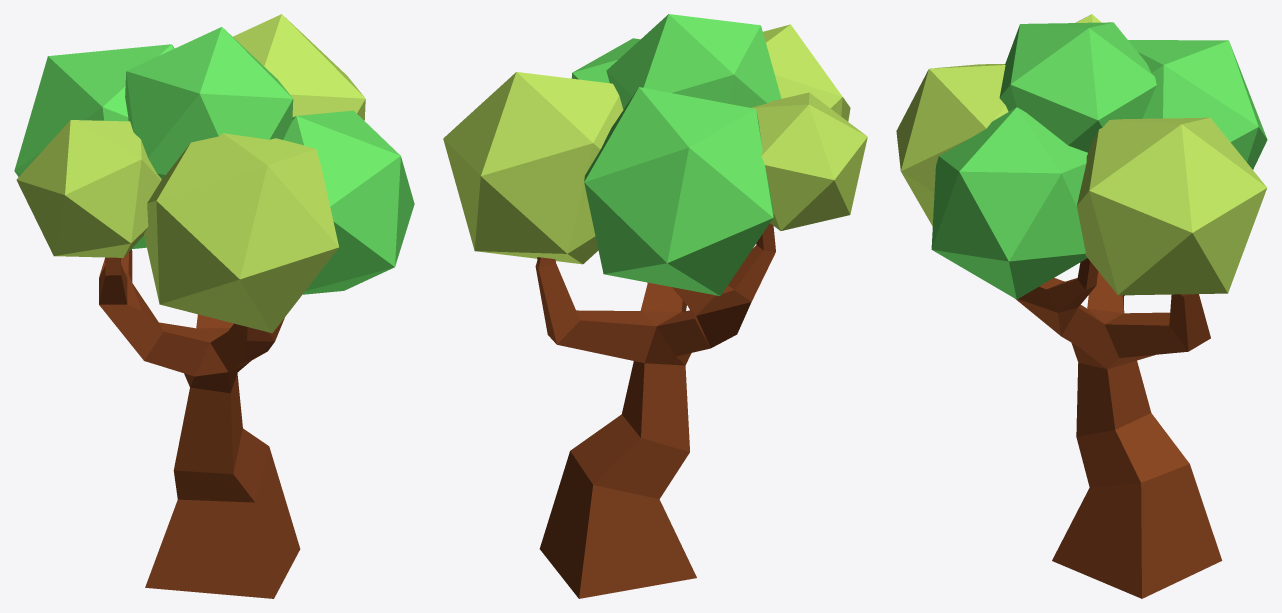
Rendered from TreeStylized_ExtraLowPoly.fbx.
3 views of the same model, side by side, from view 1: azimuth 30°, elevation 25°; view 2: azimuth 150°, elevation 25°; view 3: azimuth 270°, elevation 25° (orthographic). The views are drawn at different scales.
Parts seen in each view (by area): view 1: TreeBase1.003, Icosphere, Icosphere.005, Icosphere.001, Icosphere.004, Icosphere.002, Icosphere.003; view 2: TreeBase1.003, Icosphere.002, Icosphere.003, Icosphere.005, Icosphere.001, Icosphere, Icosphere.004; view 3: TreeBase1.003, Icosphere.003, Icosphere.004, Icosphere.005, Icosphere.002, Icosphere.
Part boxes in pixels (x1,y1,x2,y2): TreeBase1.003: (99,249,300,598); Icosphere: (144,133,338,333); Icosphere.005: (125,27,293,178); Icosphere.001: (16,120,161,257); Icosphere.004: (283,110,414,294); Icosphere.002: (14,44,174,249); Icosphere.003: (233,14,365,120); TreeBase1.003: (535,223,775,598); Icosphere.002: (584,87,774,296); Icosphere.003: (443,72,623,264); Icosphere.005: (606,14,781,109); Icosphere.001: (751,92,867,230); Icosphere: (763,24,850,121); Icosphere.004: (571,38,640,83); TreeBase1.003: (1016,258,1222,598); Icosphere.003: (1076,117,1266,295); Icosphere.004: (931,107,1087,299); Icosphere.005: (999,22,1156,152); Icosphere.002: (1128,40,1267,169); Icosphere: (896,64,1008,225).
Bounding box in the file's own units: 446 × 652 × 419.
